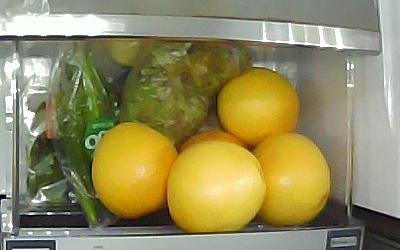grapefruit: (167, 140, 266, 233), (91, 122, 179, 217), (254, 132, 330, 227), (216, 67, 300, 147)
